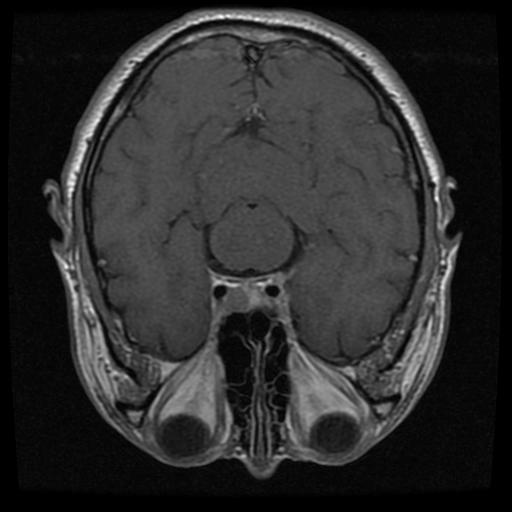Tumour-Pituitary: (206, 267, 290, 317)
